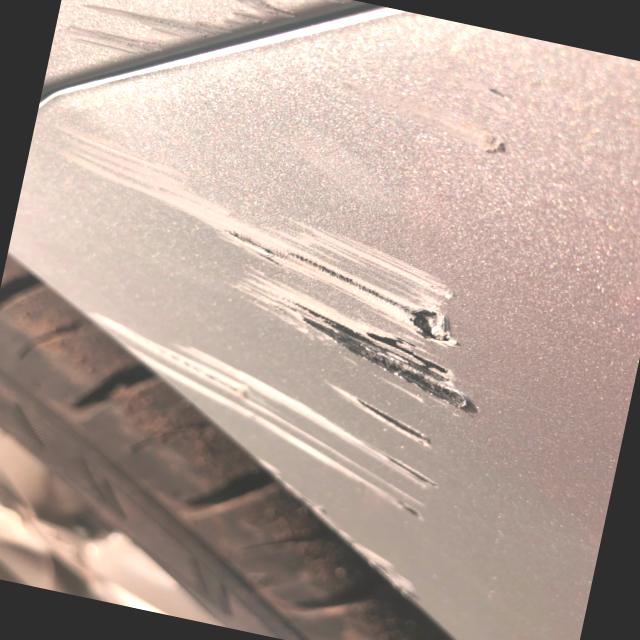Rayure: (2, 122, 536, 547)
